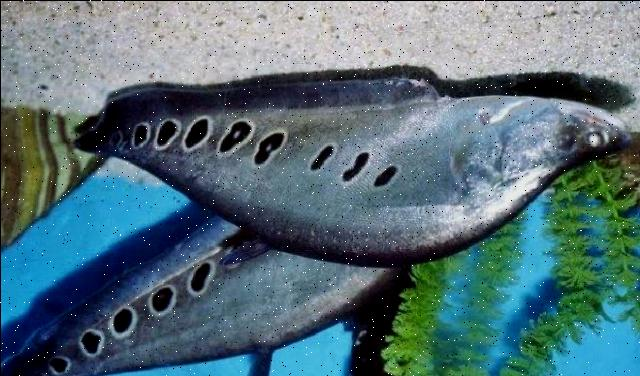Mulut: (552, 98, 632, 154)
Sirip Dada: (432, 106, 502, 174)
Sirip Punggung: (209, 230, 273, 268)
